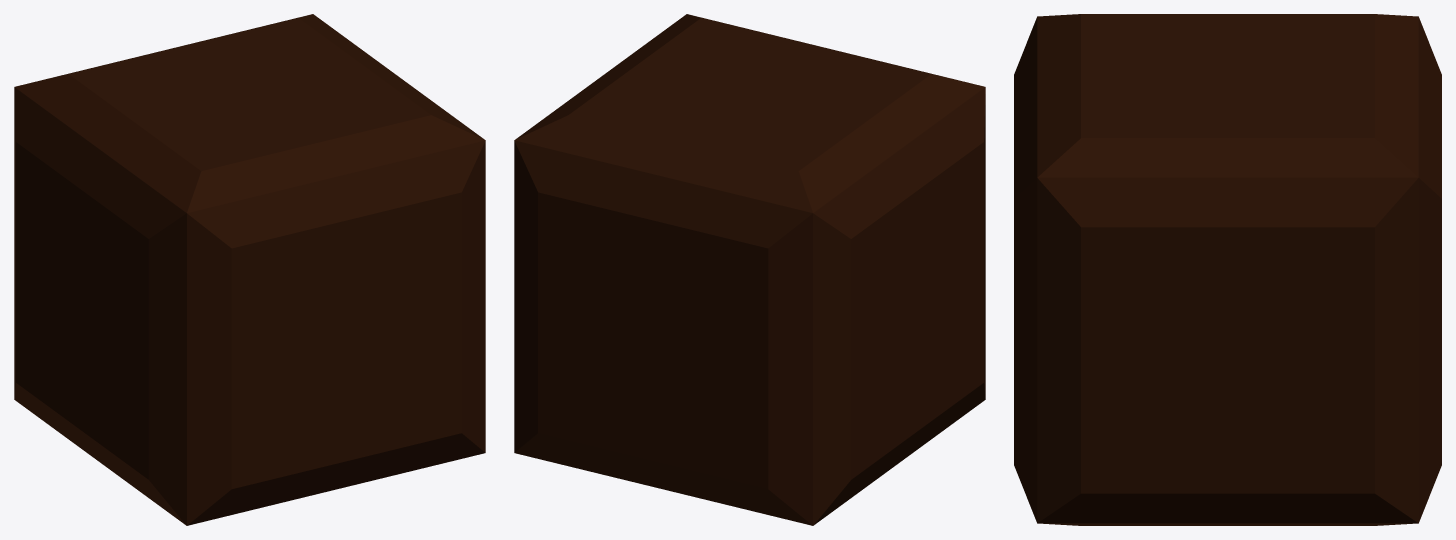
The model's file is BlockBevel.FBX.
3 renders of one model, left to right at view 1: azimuth 30°, elevation 25°; view 2: azimuth 150°, elevation 25°; view 3: azimuth 270°, elevation 25°, orthographic. The views are drawn at different scales.
Parts seen in each view (by area): view 1: Box003; view 2: Box003; view 3: Box003.
Boxes of the visible parts, box(x1,y1,x2,y2) form: Box003: box(14, 14, 485, 525); Box003: box(514, 14, 985, 525); Box003: box(1014, 14, 1441, 525).
Size of the model in its own units: 20.19 by 20.19 by 20.19.
